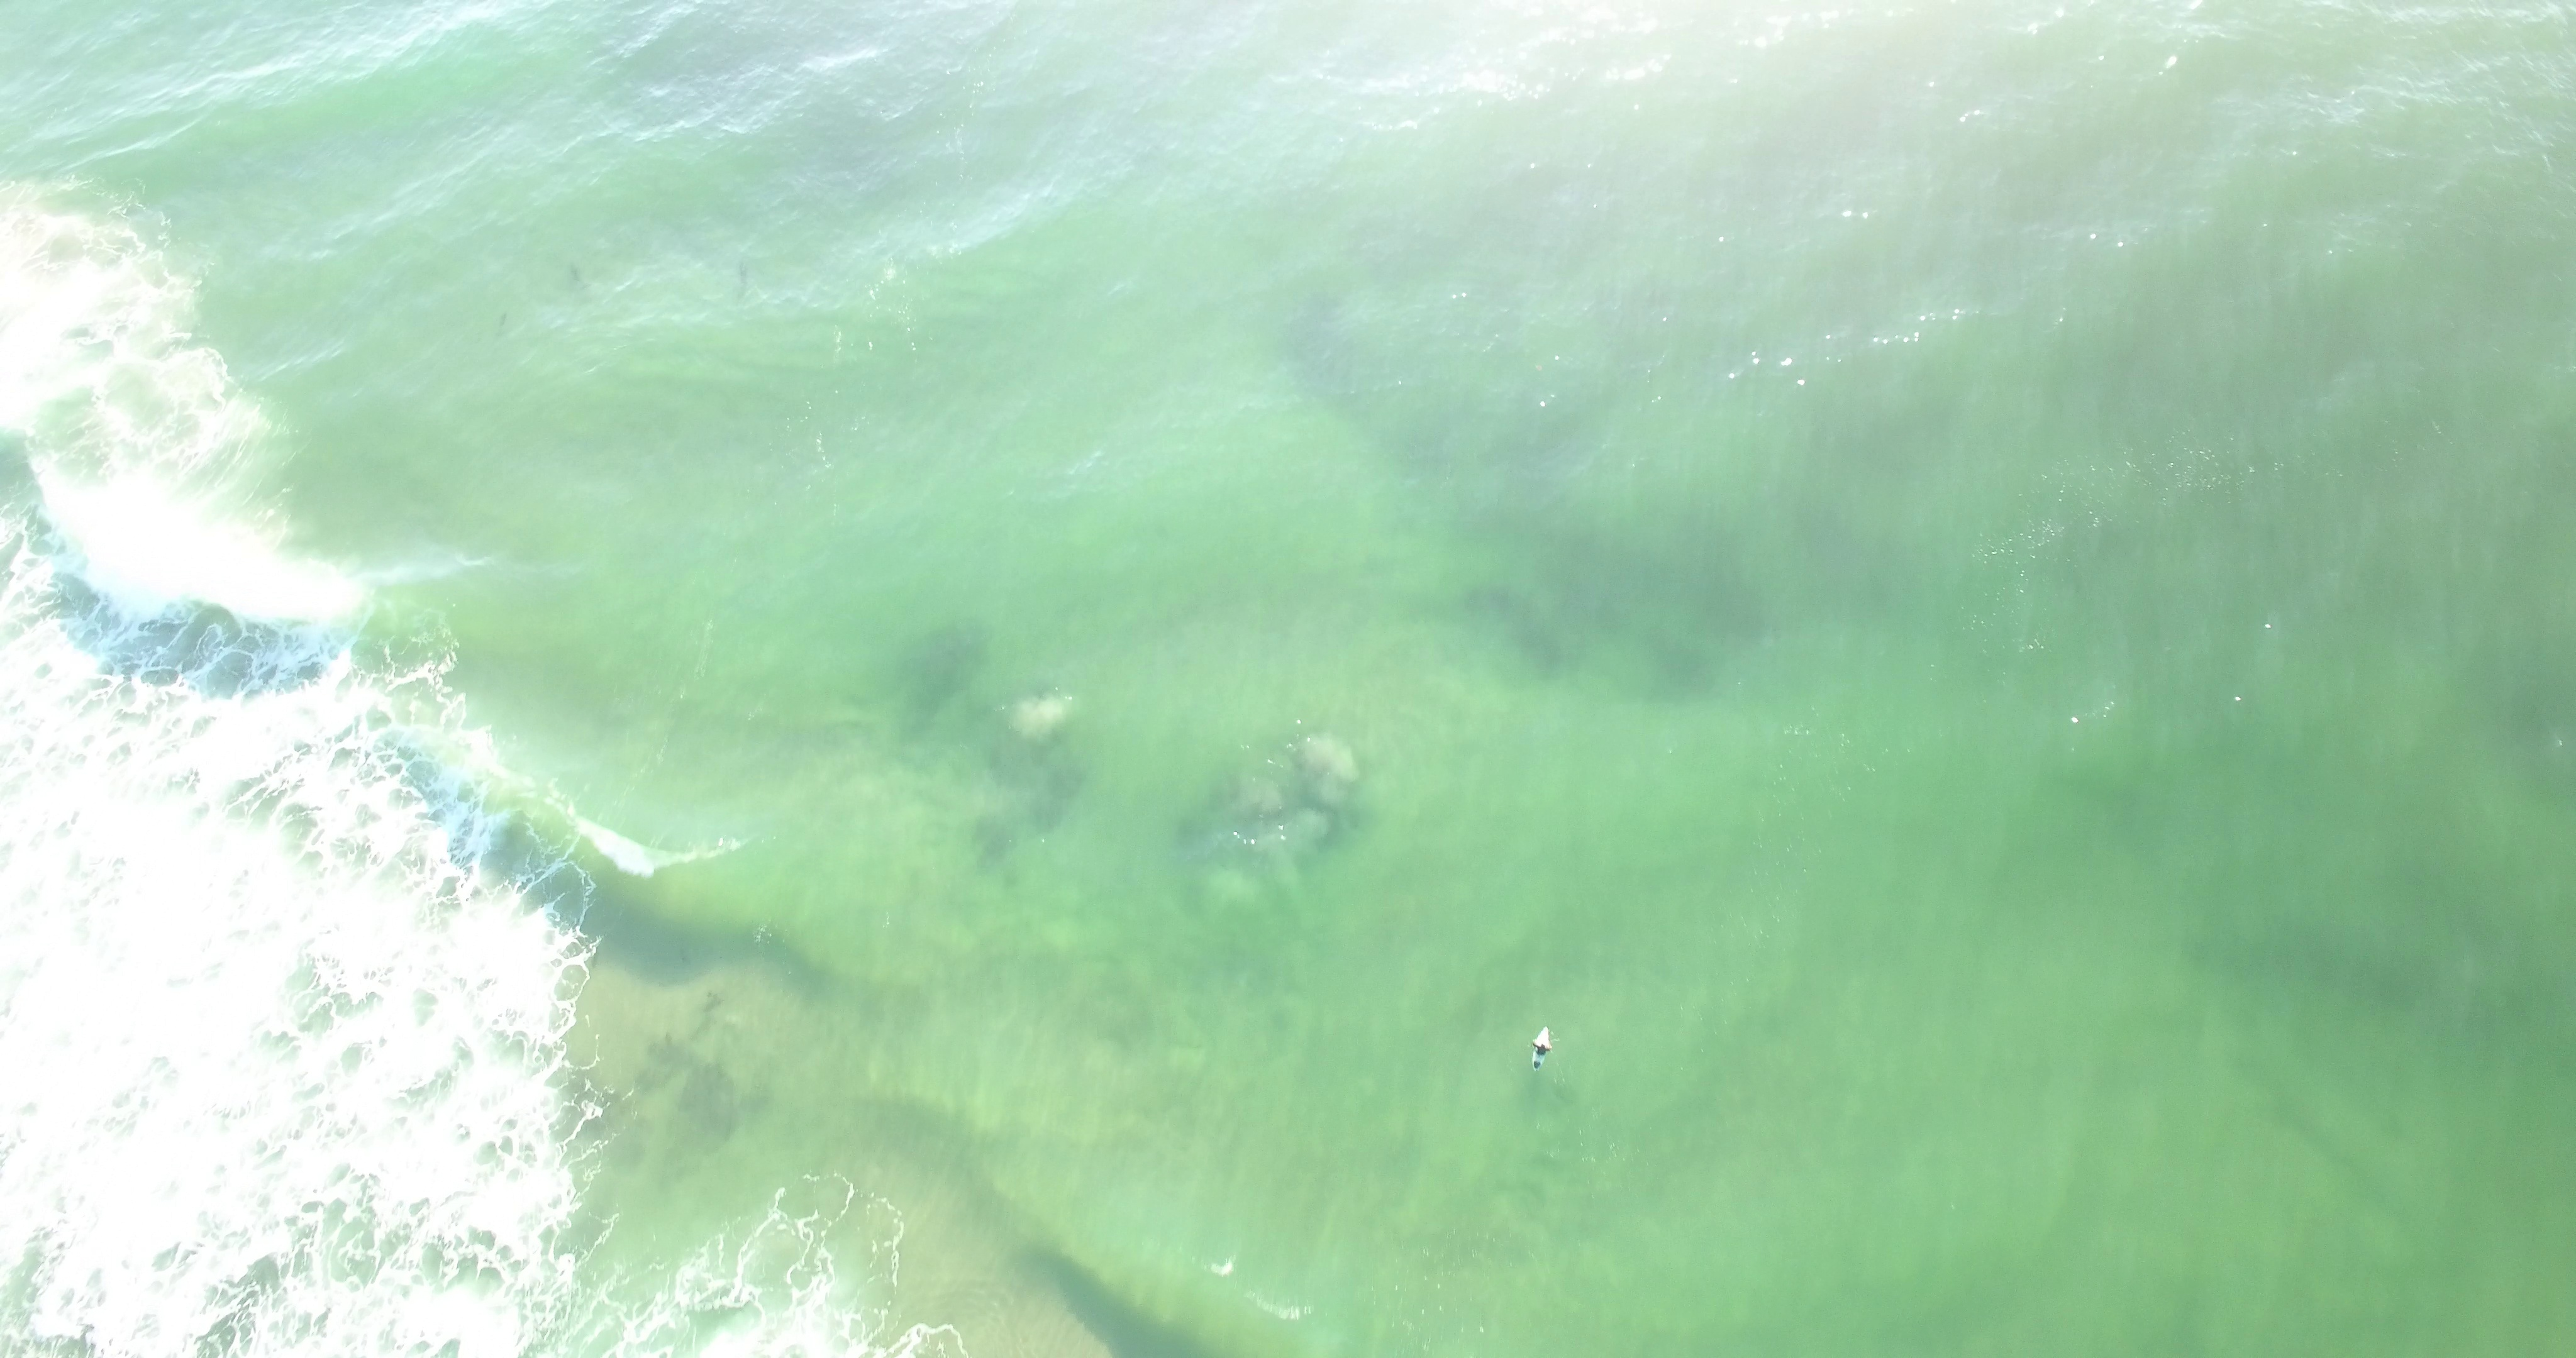dolphin: (566, 264, 589, 290), (738, 261, 750, 303), (494, 310, 509, 336)
surfer: (1527, 1024, 1554, 1070)
